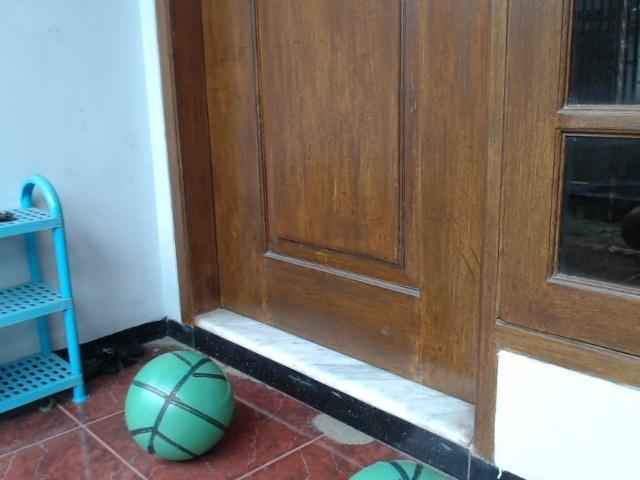Sports-Ball: (118, 345, 242, 469)
